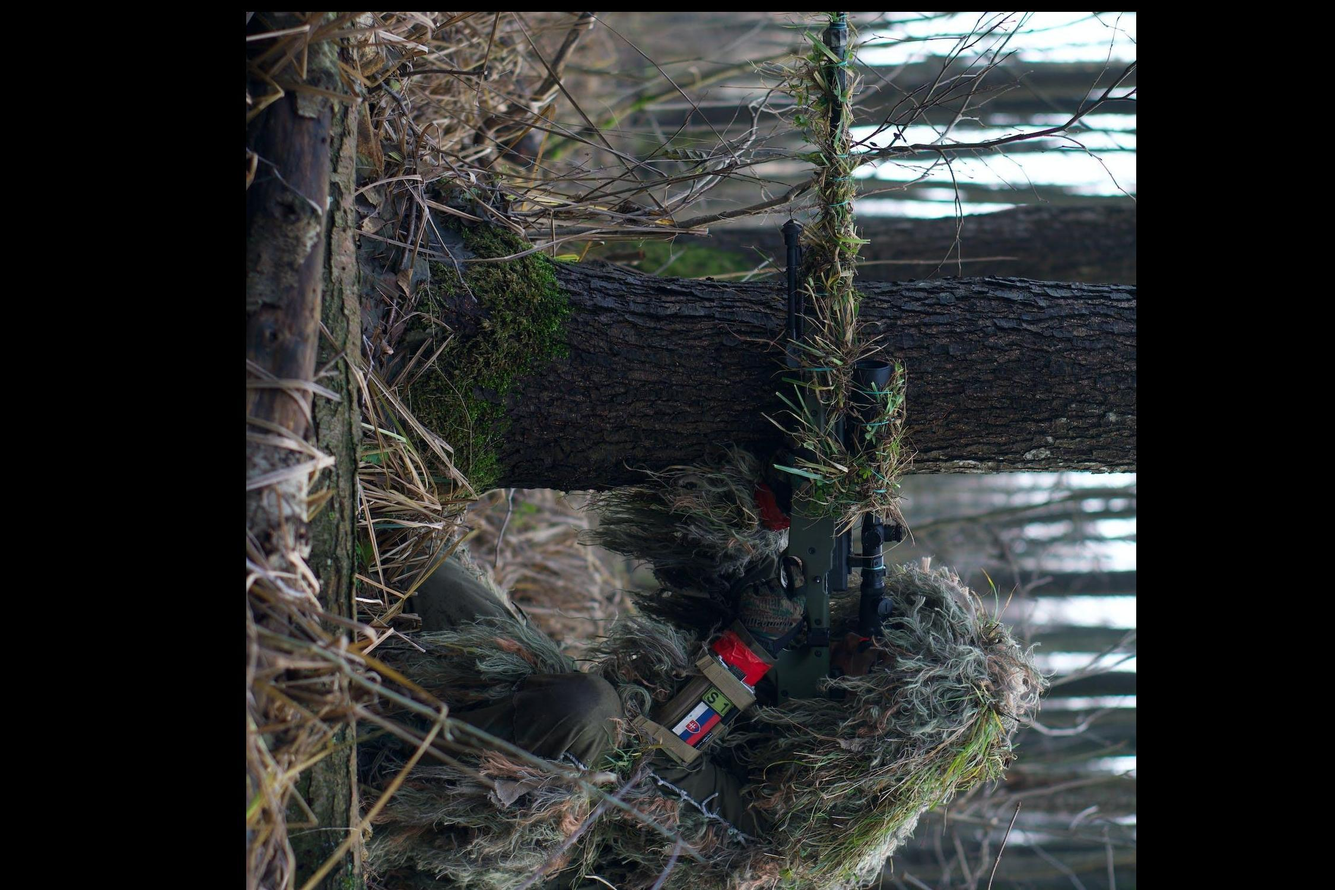larga: (765, 10, 906, 715)
